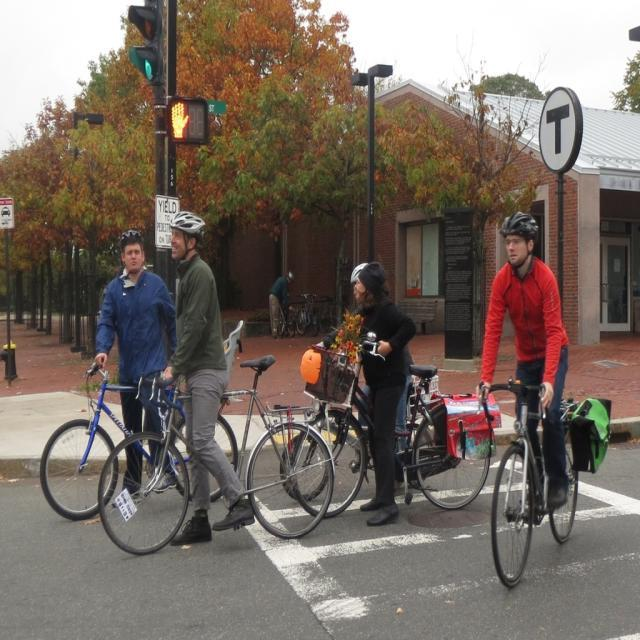traffic light: (129, 2, 171, 85)
